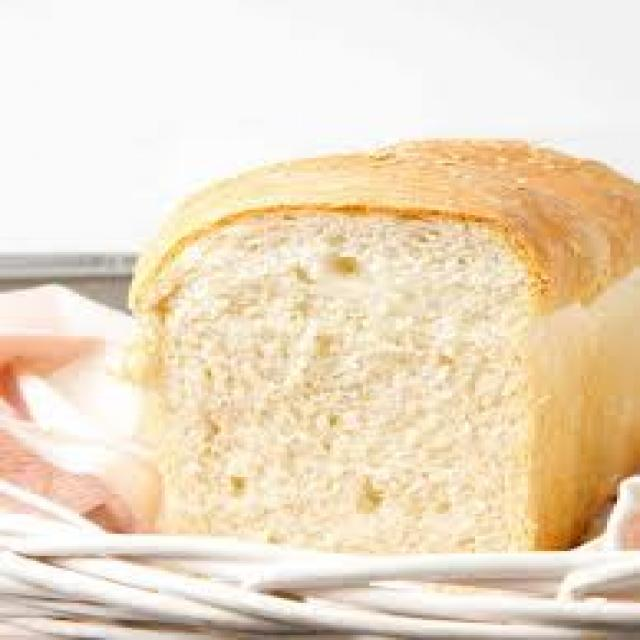bread: (125, 138, 640, 546)
